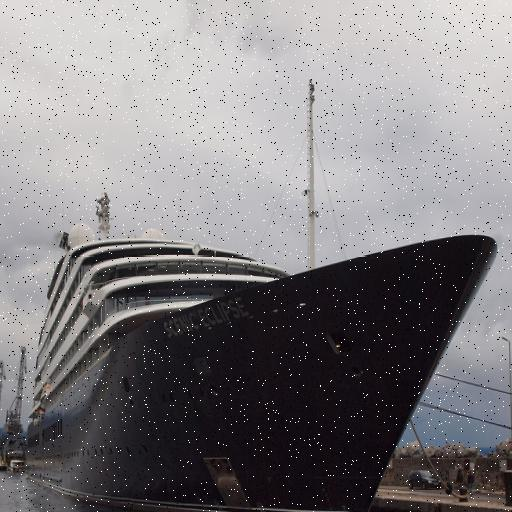cruises: (24, 189, 503, 512)
